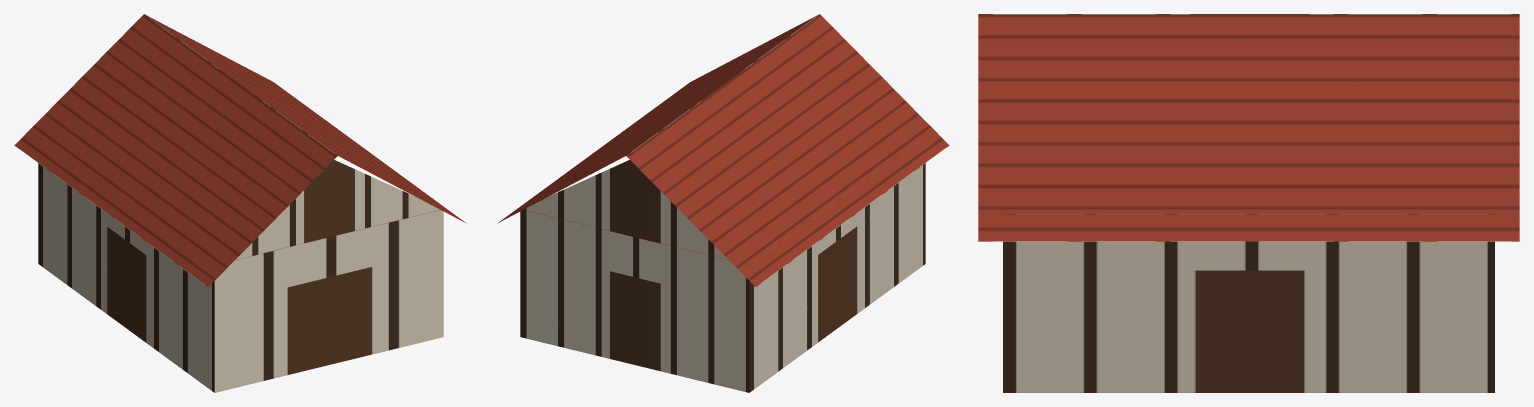
The model's file is test_house.glb.
3 views of the same model, side by side, from view 1: azimuth 30°, elevation 25°; view 2: azimuth 150°, elevation 25°; view 3: azimuth 270°, elevation 25° (orthographic). The views are drawn at different scales.
Size of the model in its own units: 6.8 by 5.4 by 8.8.
1 material, 1 textured.
